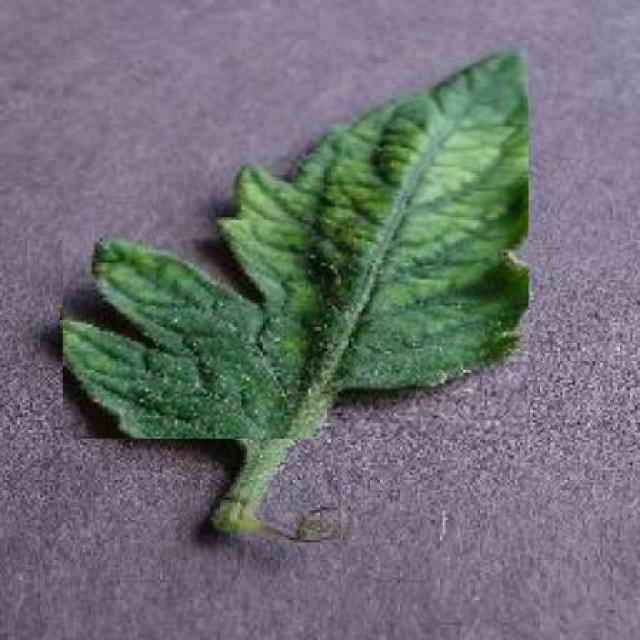Mosaic Virus: (63, 40, 528, 439)
